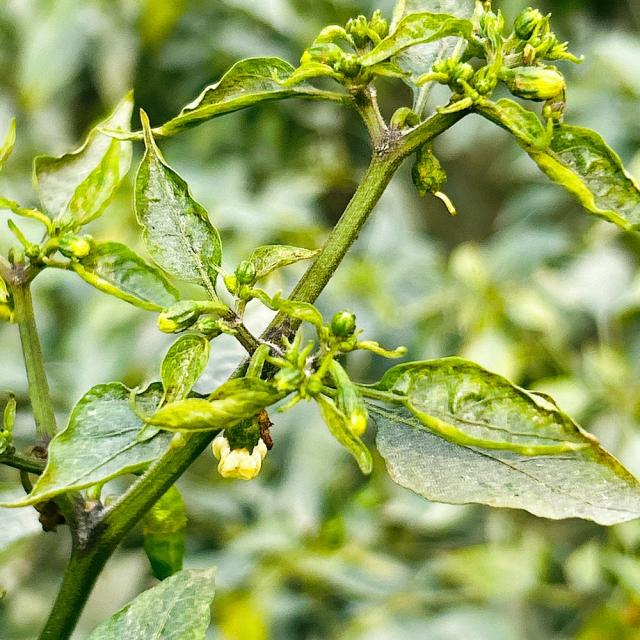Chilli_Leaf_Curl: (1, 2, 638, 634), (360, 355, 639, 526), (1, 379, 178, 510), (130, 108, 223, 296), (154, 55, 354, 136), (30, 88, 136, 238), (87, 564, 218, 638)
